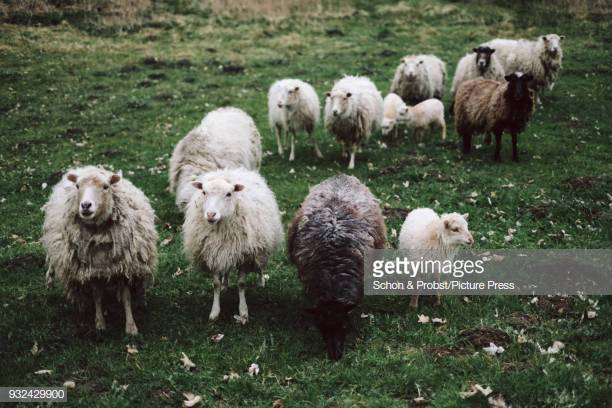sheep: (157, 94, 271, 308), (41, 165, 157, 335), (296, 170, 397, 350), (238, 76, 314, 168), (461, 76, 535, 155), (381, 88, 459, 152), (320, 76, 368, 166), (410, 204, 470, 269), (456, 40, 516, 101), (496, 32, 563, 80), (393, 44, 439, 92)
